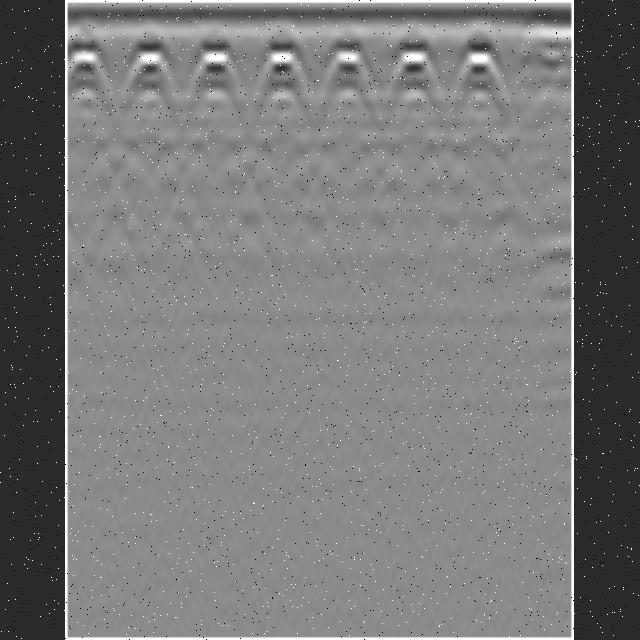hyperbola: (116, 44, 192, 114), (451, 38, 513, 118), (187, 41, 251, 114), (250, 38, 310, 112), (68, 37, 120, 121), (389, 50, 448, 119), (326, 42, 380, 112)
